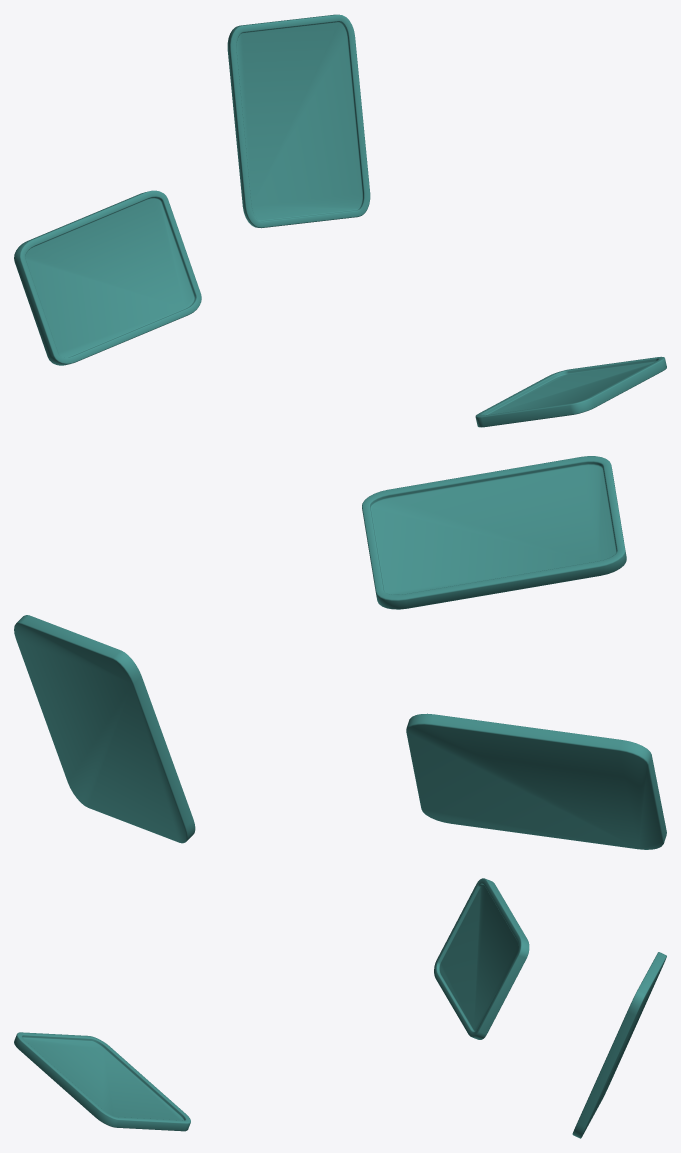
Rendered from Quadros.fbx.
The picture shows the model from 3 angles, top to bottom: view 1: azimuth 30°, elevation 25°; view 2: azimuth 150°, elevation 25°; view 3: azimuth 270°, elevation 25°; orthographic projection. The views are drawn at different scales.
Visible parts, largest first — view 1: Cube.034, Cube.033, Cube.032; view 2: Cube.032, Cube.033, Cube.034; view 3: Cube.033, Cube.032, Cube.034.
Boxes of the visible parts, x1,y1,x2,y2 form: Cube.034: (227,14,370,228); Cube.033: (14,190,201,365); Cube.032: (475,356,666,427); Cube.032: (362,456,626,609); Cube.033: (406,713,666,849); Cube.034: (14,615,195,843); Cube.033: (434,878,529,1039); Cube.032: (14,1032,190,1131); Cube.034: (572,952,666,1138).
Size of the model in its own units: 438 by 169 by 639.
